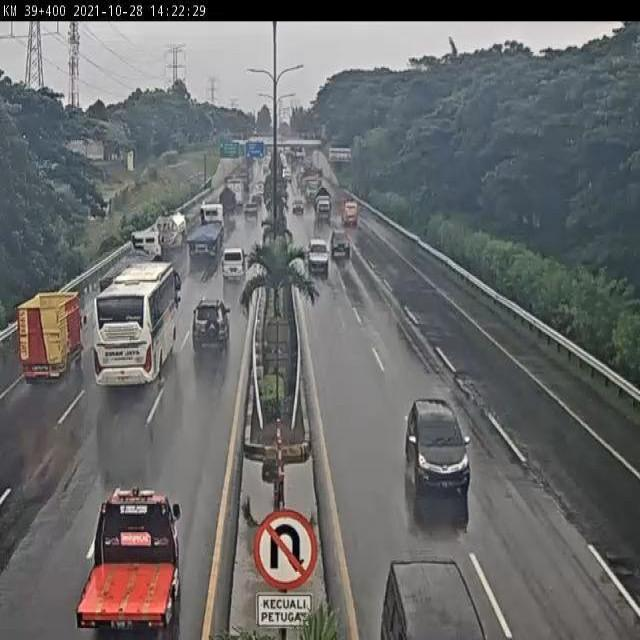bus-l-: (94, 264, 185, 381)
car: (404, 400, 473, 499), (193, 300, 229, 349), (221, 247, 248, 277)
truck-m-: (152, 208, 188, 253)
truck-s-: (75, 492, 180, 632), (17, 292, 86, 379)
truck-xl-: (98, 228, 163, 295), (185, 200, 227, 261)
